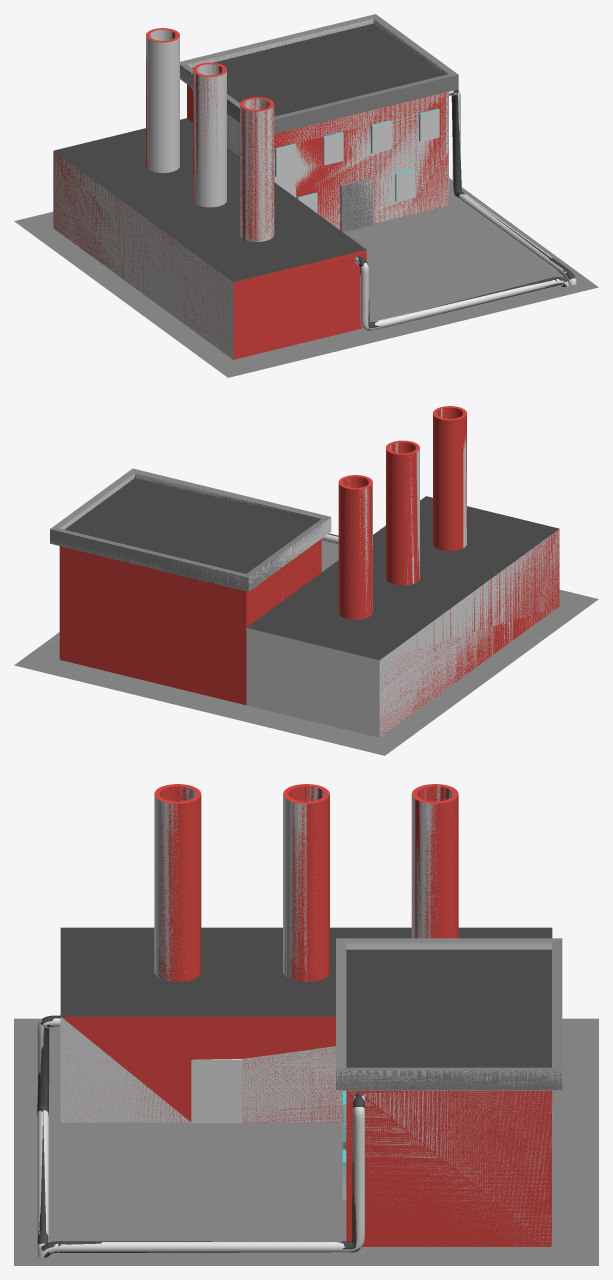
Rendered from Industrial3.fbx.
The picture shows the model from 3 angles, top to bottom: view 1: azimuth 30°, elevation 25°; view 2: azimuth 150°, elevation 25°; view 3: azimuth 270°, elevation 25°; orthographic projection. The views are drawn at different scales.
Visible parts, largest first — view 1: Plane, Cube, Cube.001, Cylinder.001, Cylinder.002, Cylinder, Cube.007, BezierCurve.001, BezierCurve, Cube.002, Cube.003, Plane.001; view 2: Plane, Cube, Cube.001, Cylinder, Cylinder.002; view 3: Plane, Cube, Cube.001, BezierCurve, Cylinder, Cylinder.001, Cube.005, Cylinder.002, BezierCurve.001.
Part boxes in pixels (<box>): Plane: <box>14,14,598,377</box>; Cube: <box>53,151,233,359</box>; Cube.001: <box>180,19,448,229</box>; Cylinder.001: <box>240,98,274,241</box>; Cylinder.002: <box>146,29,179,172</box>; Cylinder: <box>193,64,226,207</box>; Cube.007: <box>275,109,439,177</box>; BezierCurve.001: <box>354,257,568,330</box>; BezierCurve: <box>449,90,576,285</box>; Cube.002: <box>340,179,373,231</box>; Cube.003: <box>396,170,415,202</box>; Plane.001: <box>449,93,565,277</box>; Plane: <box>14,406,598,755</box>; Cube: <box>246,529,559,737</box>; Cube.001: <box>50,473,331,590</box>; Cylinder: <box>390,443,419,584</box>; Cylinder.002: <box>338,478,372,615</box>; Plane: <box>14,784,598,1265</box>; Cube: <box>60,1017,552,1122</box>; Cube.001: <box>336,943,562,1246</box>; BezierCurve: <box>37,1095,364,1257</box>; Cylinder: <box>283,786,324,981</box>; Cylinder.001: <box>154,786,195,981</box>; Cube.005: <box>191,1059,241,1123</box>; Cylinder.002: <box>411,786,458,938</box>; BezierCurve.001: <box>37,1018,60,1251</box>.
Size of the model in its own units: 5000 by 2701 by 5000.
